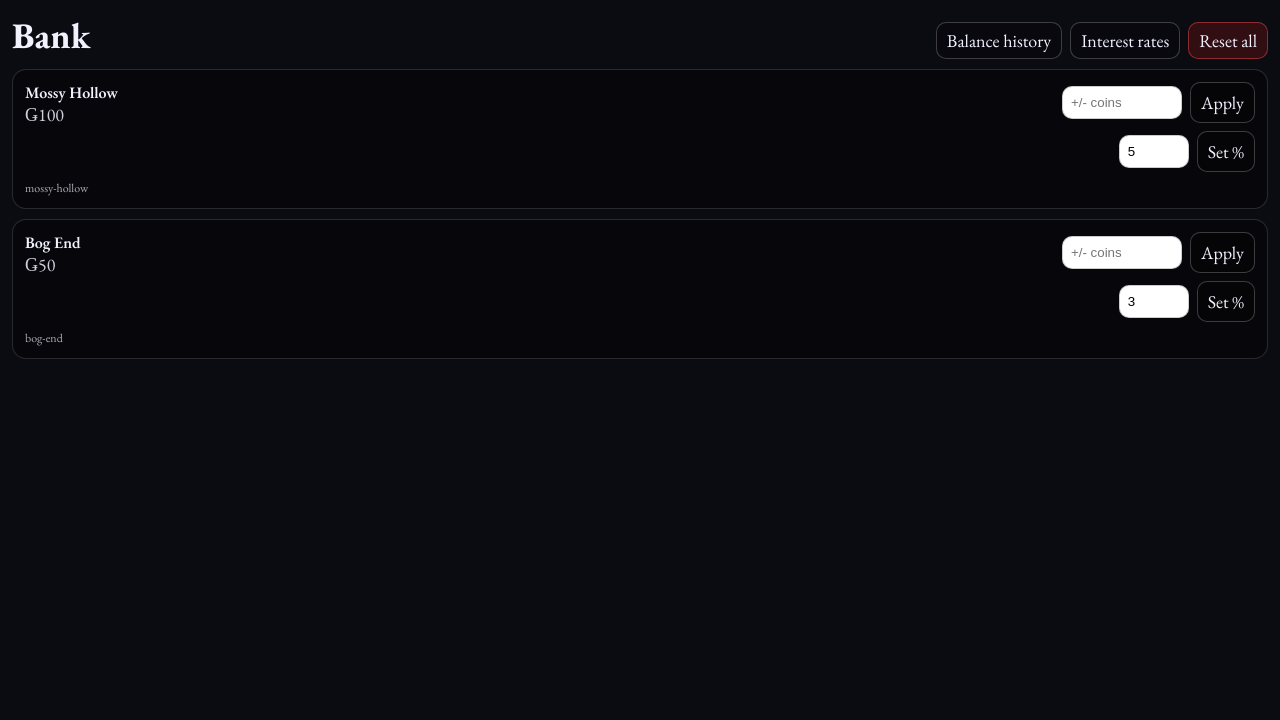
Scenario: OfficeBank › a failed coin change shows an error
Check: the text "Mossy Hollow" is shown, box [25,82,118,103]
Type "20" into the field with placeholder "+/- coins" in the row of "Mossy Hollow" at coordinates (1122, 102), box [1062,86,1182,119]
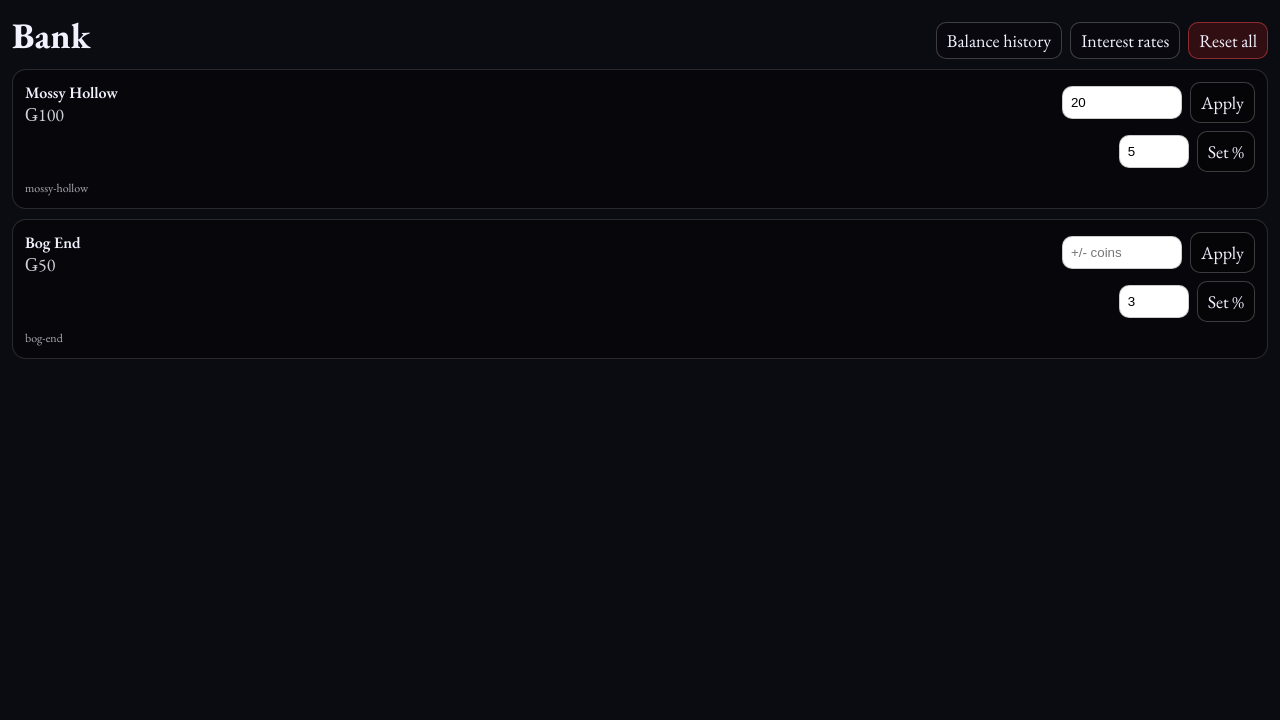
Click the button "Apply" in the row of "Mossy Hollow" at coordinates (1222, 102), box [1190,82,1255,123]
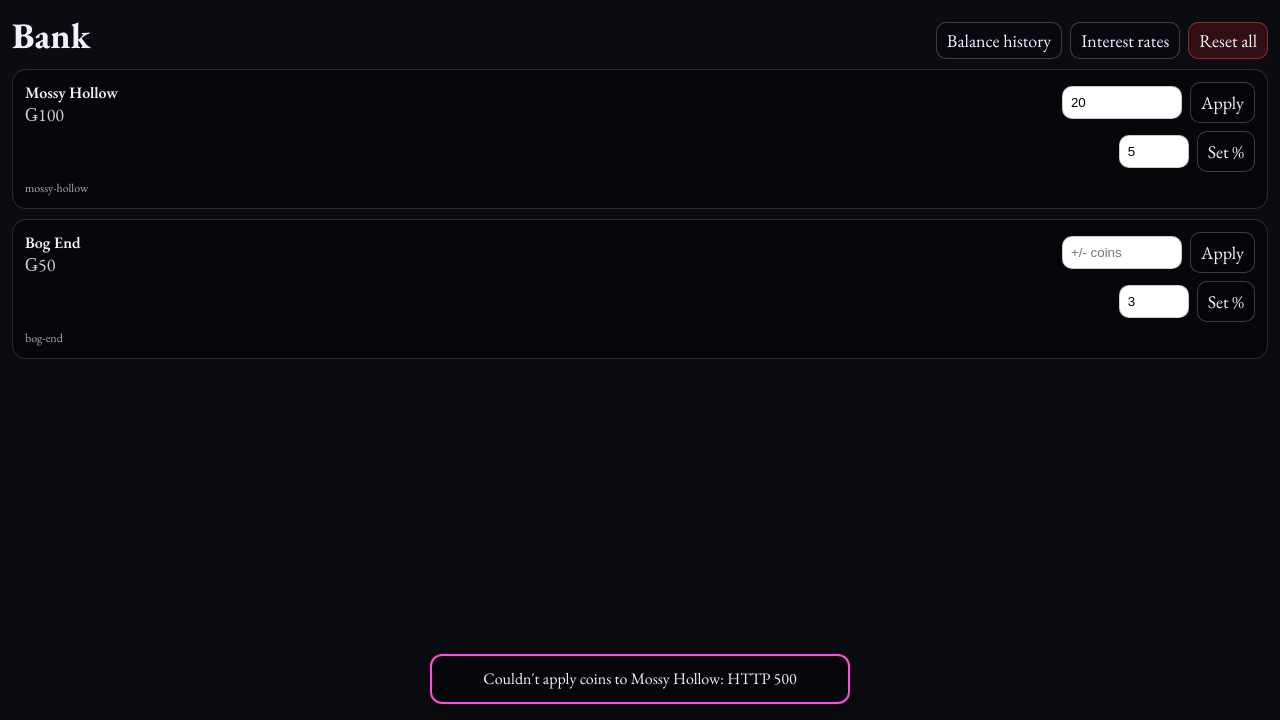
Check: the text "Couldn't apply coins to Mossy Hollow: HTTP 500" is shown, box [430,654,850,704]
